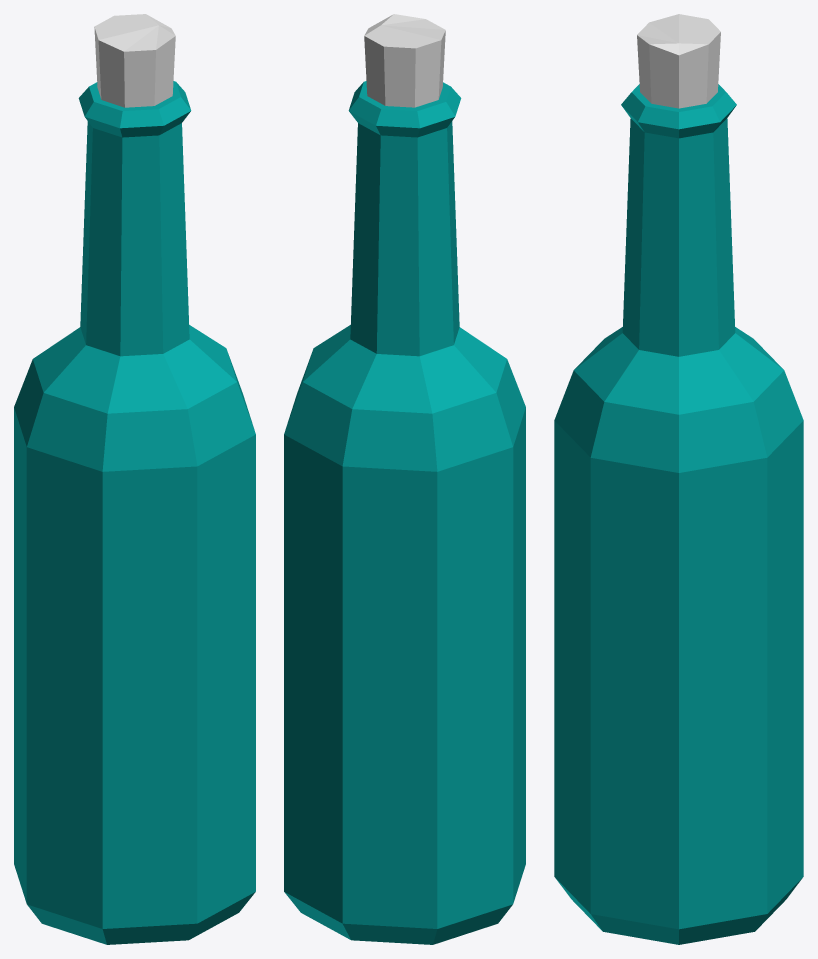
Rendered from SM_Prop_Message_Bottle_01.glb.
3 renders of one model, left to right at view 1: azimuth 30°, elevation 25°; view 2: azimuth 150°, elevation 25°; view 3: azimuth 270°, elevation 25°, orthographic.
Parts seen in each view (by area): view 1: SM_Prop_Message_Bottle_01; view 2: SM_Prop_Message_Bottle_01; view 3: SM_Prop_Message_Bottle_01.
Part boxes in pixels (x1=…): SM_Prop_Message_Bottle_01: x1=14, y1=14, x2=255, y2=944; SM_Prop_Message_Bottle_01: x1=284, y1=14, x2=525, y2=944; SM_Prop_Message_Bottle_01: x1=554, y1=14, x2=803, y2=944.
Size of the model in its own units: 0.1224 by 0.4702 by 0.1224.
